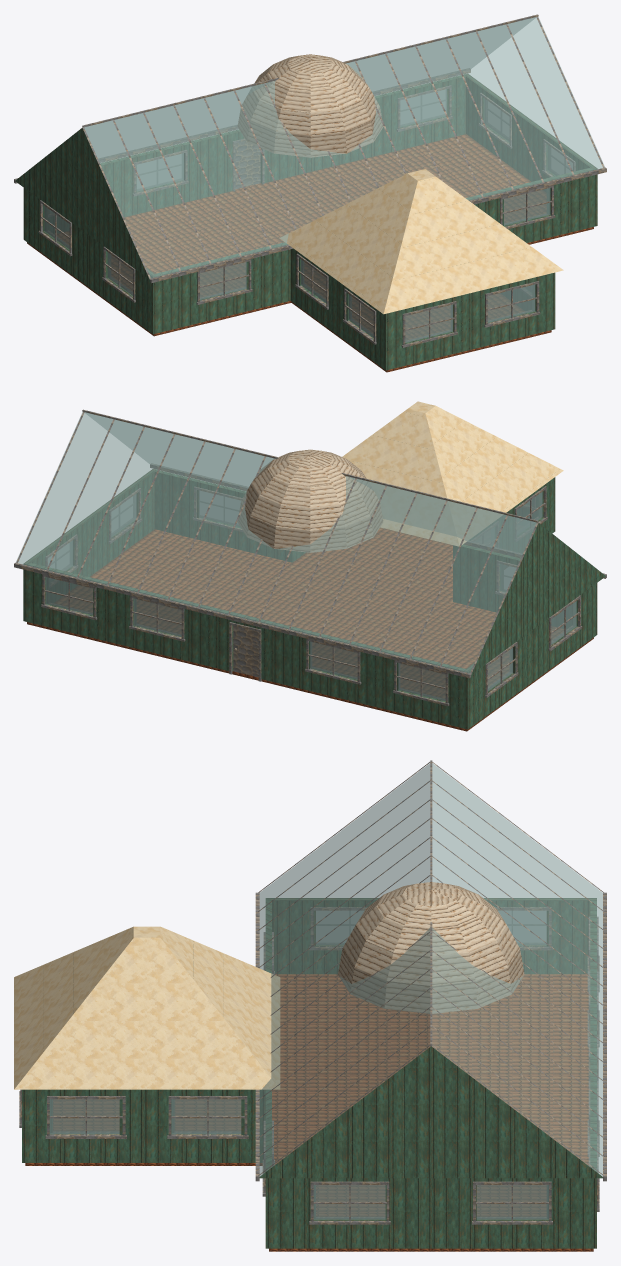
Rendered from glass-garden-hall.gltf.
3 renders of one model, top to bottom at view 1: azimuth 30°, elevation 25°; view 2: azimuth 150°, elevation 25°; view 3: azimuth 270°, elevation 25°, orthographic. The views are drawn at different scales.
Visible parts, largest first — view 1: roof-L0-glass, exterior-L0-plaster, floor-L0-floor, roof-L0-green-metal, exterior-L0-interior, roof-L0-copper, glazing-L0-glass, roof-L0-dark-wood, trim-L0-dark-wood, roof-L0-plaster, door-leaf-L0-dark-wood; view 2: roof-L0-glass, floor-L0-floor, exterior-L0-plaster, roof-L0-green-metal, roof-L0-copper, exterior-L0-interior, roof-L0-dark-wood, glazing-L0-glass, roof-L0-plaster, trim-L0-dark-wood, door-leaf-L0-dark-wood; view 3: roof-L0-glass, floor-L0-floor, roof-L0-green-metal, exterior-L0-plaster, roof-L0-plaster, roof-L0-copper, glazing-L0-glass, roof-L0-dark-wood, trim-L0-dark-wood, exterior-L0-interior.
Boxes of the visible parts, x1,y1,x2,y2 form: roof-L0-glass: (84,17,604,278); exterior-L0-plaster: (23,74,597,370); floor-L0-floor: (27,134,593,372); roof-L0-green-metal: (280,169,563,314); exterior-L0-interior: (48,77,589,310); roof-L0-copper: (237,54,383,157); glazing-L0-glass: (44,89,572,342); roof-L0-dark-wood: (14,14,606,283); trim-L0-dark-wood: (38,85,575,347); roof-L0-plaster: (15,128,149,279); door-leaf-L0-dark-wood: (235,141,260,188); roof-L0-glass: (16,412,536,673); floor-L0-floor: (27,527,593,731); exterior-L0-plaster: (23,469,597,729); roof-L0-green-metal: (342,401,563,546); roof-L0-copper: (237,449,382,552); exterior-L0-interior: (31,472,572,628); roof-L0-dark-wood: (14,409,606,678); glazing-L0-glass: (46,490,576,701); roof-L0-plaster: (470,523,605,675); trim-L0-dark-wood: (41,486,582,705); door-leaf-L0-dark-wood: (233,625,258,677); roof-L0-glass: (259,763,602,1176); floor-L0-floor: (25,974,593,1251); roof-L0-green-metal: (14,926,279,1089); exterior-L0-plaster: (22,898,596,1248); roof-L0-plaster: (259,1046,602,1178); roof-L0-copper: (338,882,524,1013); glazing-L0-glass: (49,911,548,1219); roof-L0-dark-wood: (255,760,606,1181); trim-L0-dark-wood: (19,907,599,1224); exterior-L0-interior: (272,901,589,973).
Size of the model in its own units: 16.59 by 6.1 by 14.61.
Materials: 8 (7 with a texture image).
